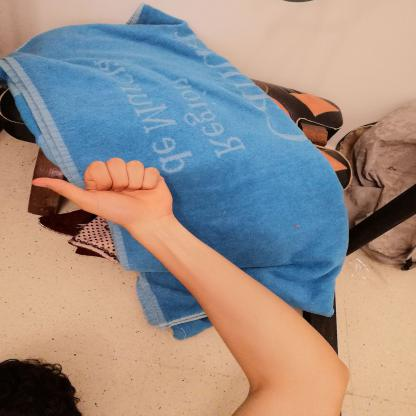DAD: (20, 150, 186, 232)
